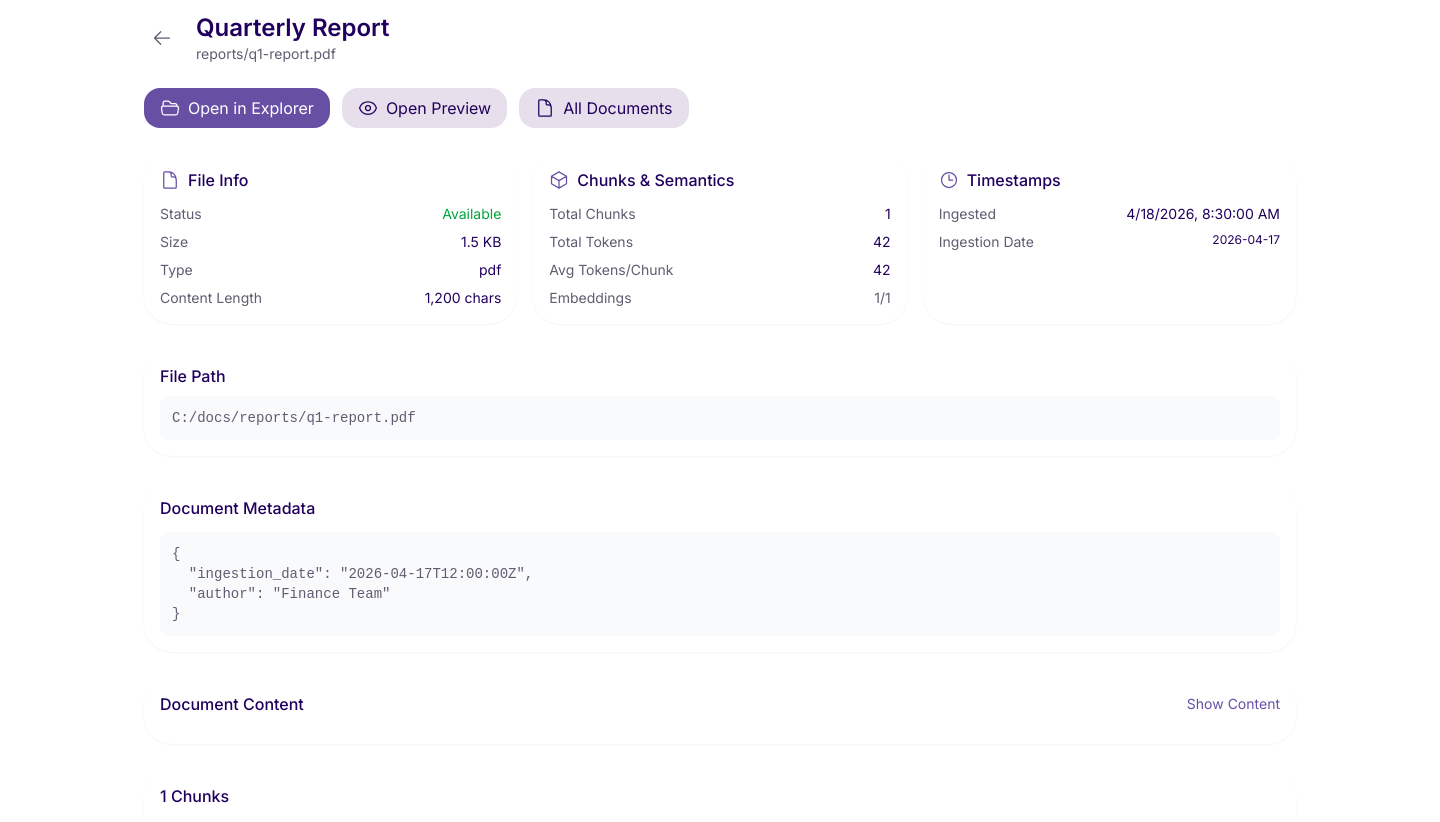
DocumentPreviewPage › shows a docker host path message and copies the translated path
Expected: the heading "Quarterly Report" is shown, top-left (196, 13), bottom-right (390, 42)
Step 1. Click the button "Open in Explorer" → (237, 108), box top-left (144, 88), bottom-right (330, 128)
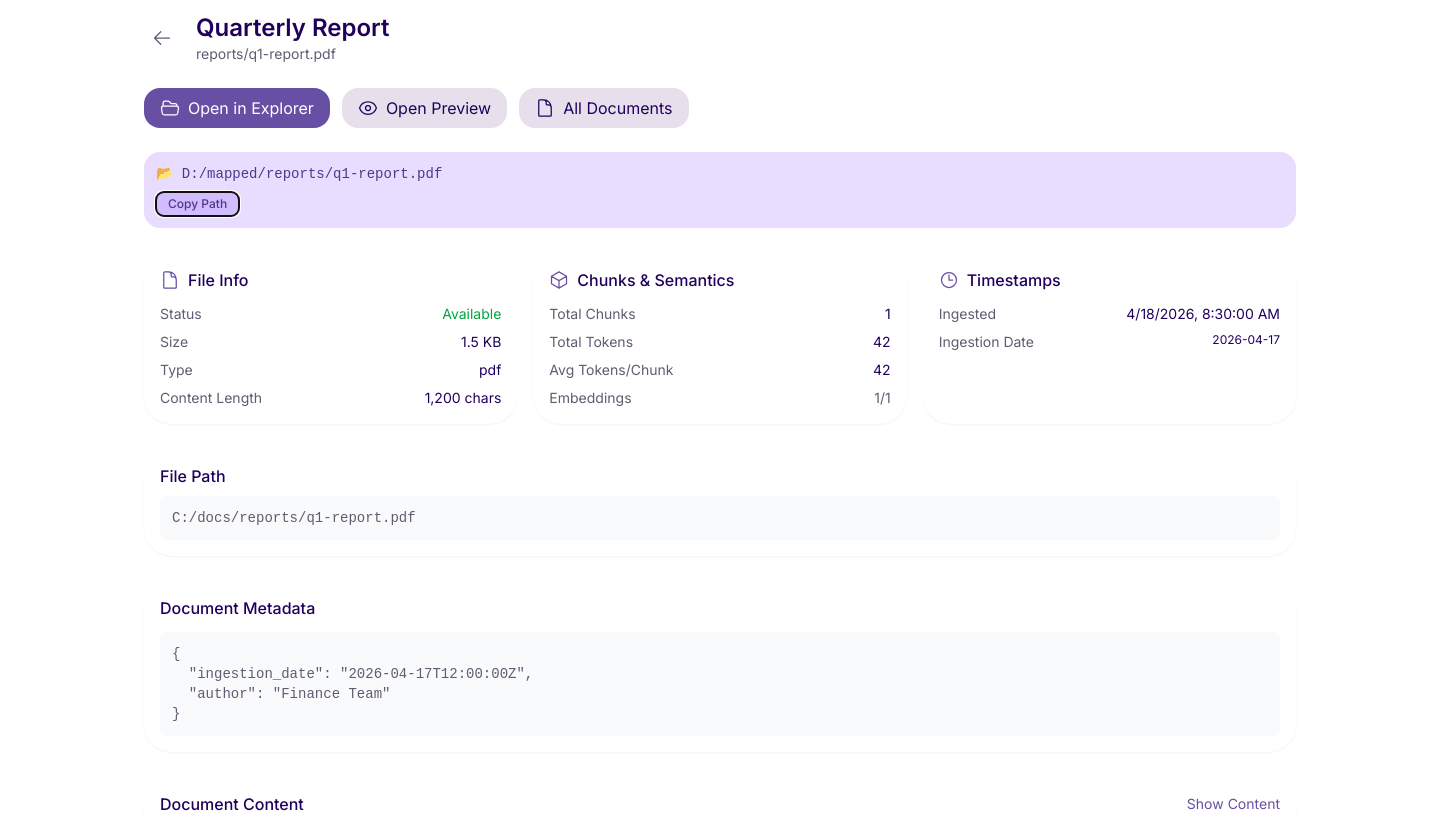
Step 2. Click the button "Copy Path" → (198, 204), box top-left (156, 192), bottom-right (239, 216)
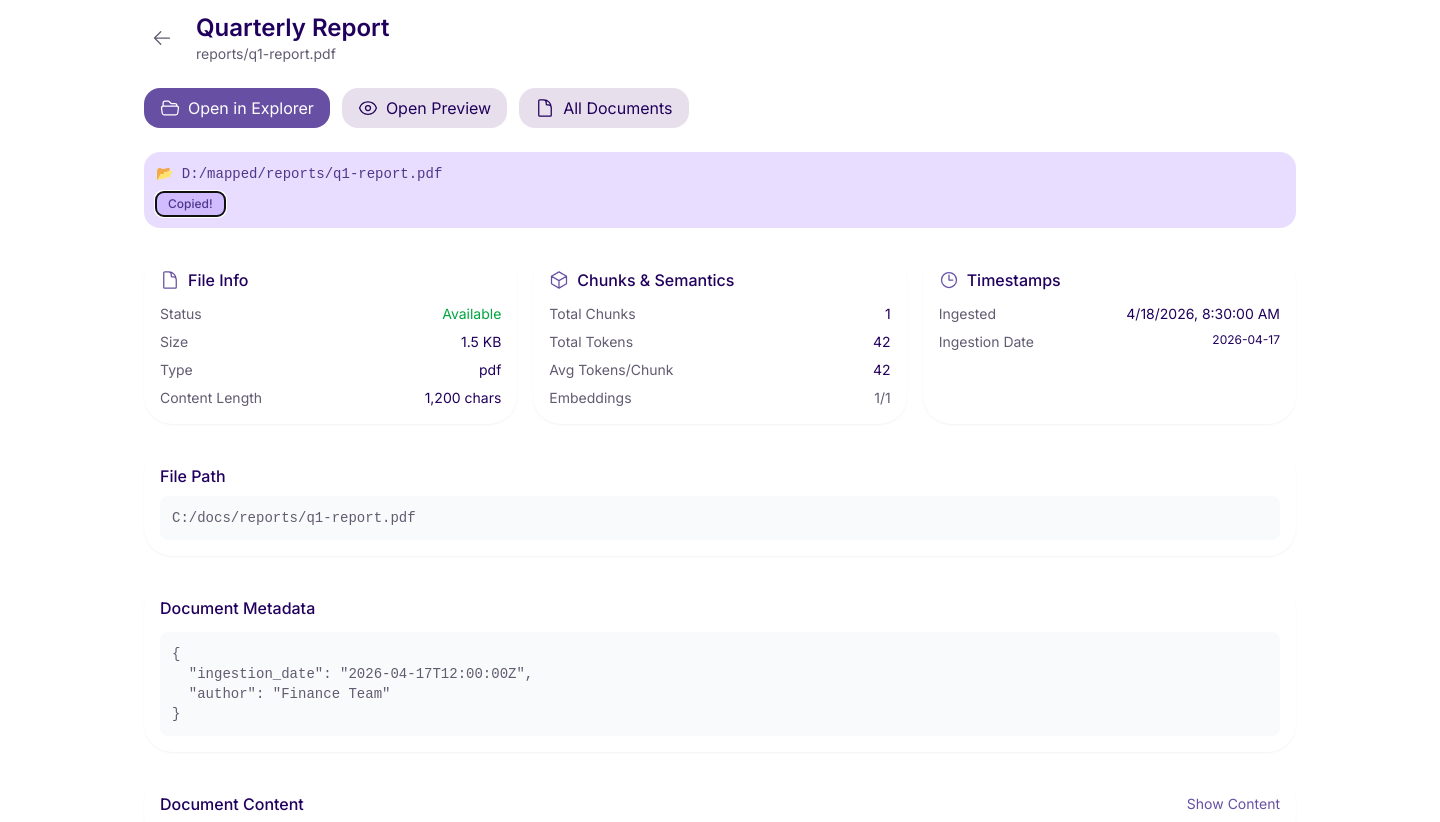
Result: the button named "Copy Path" reads "Copied!" at top-left (156, 192), bottom-right (225, 216)
